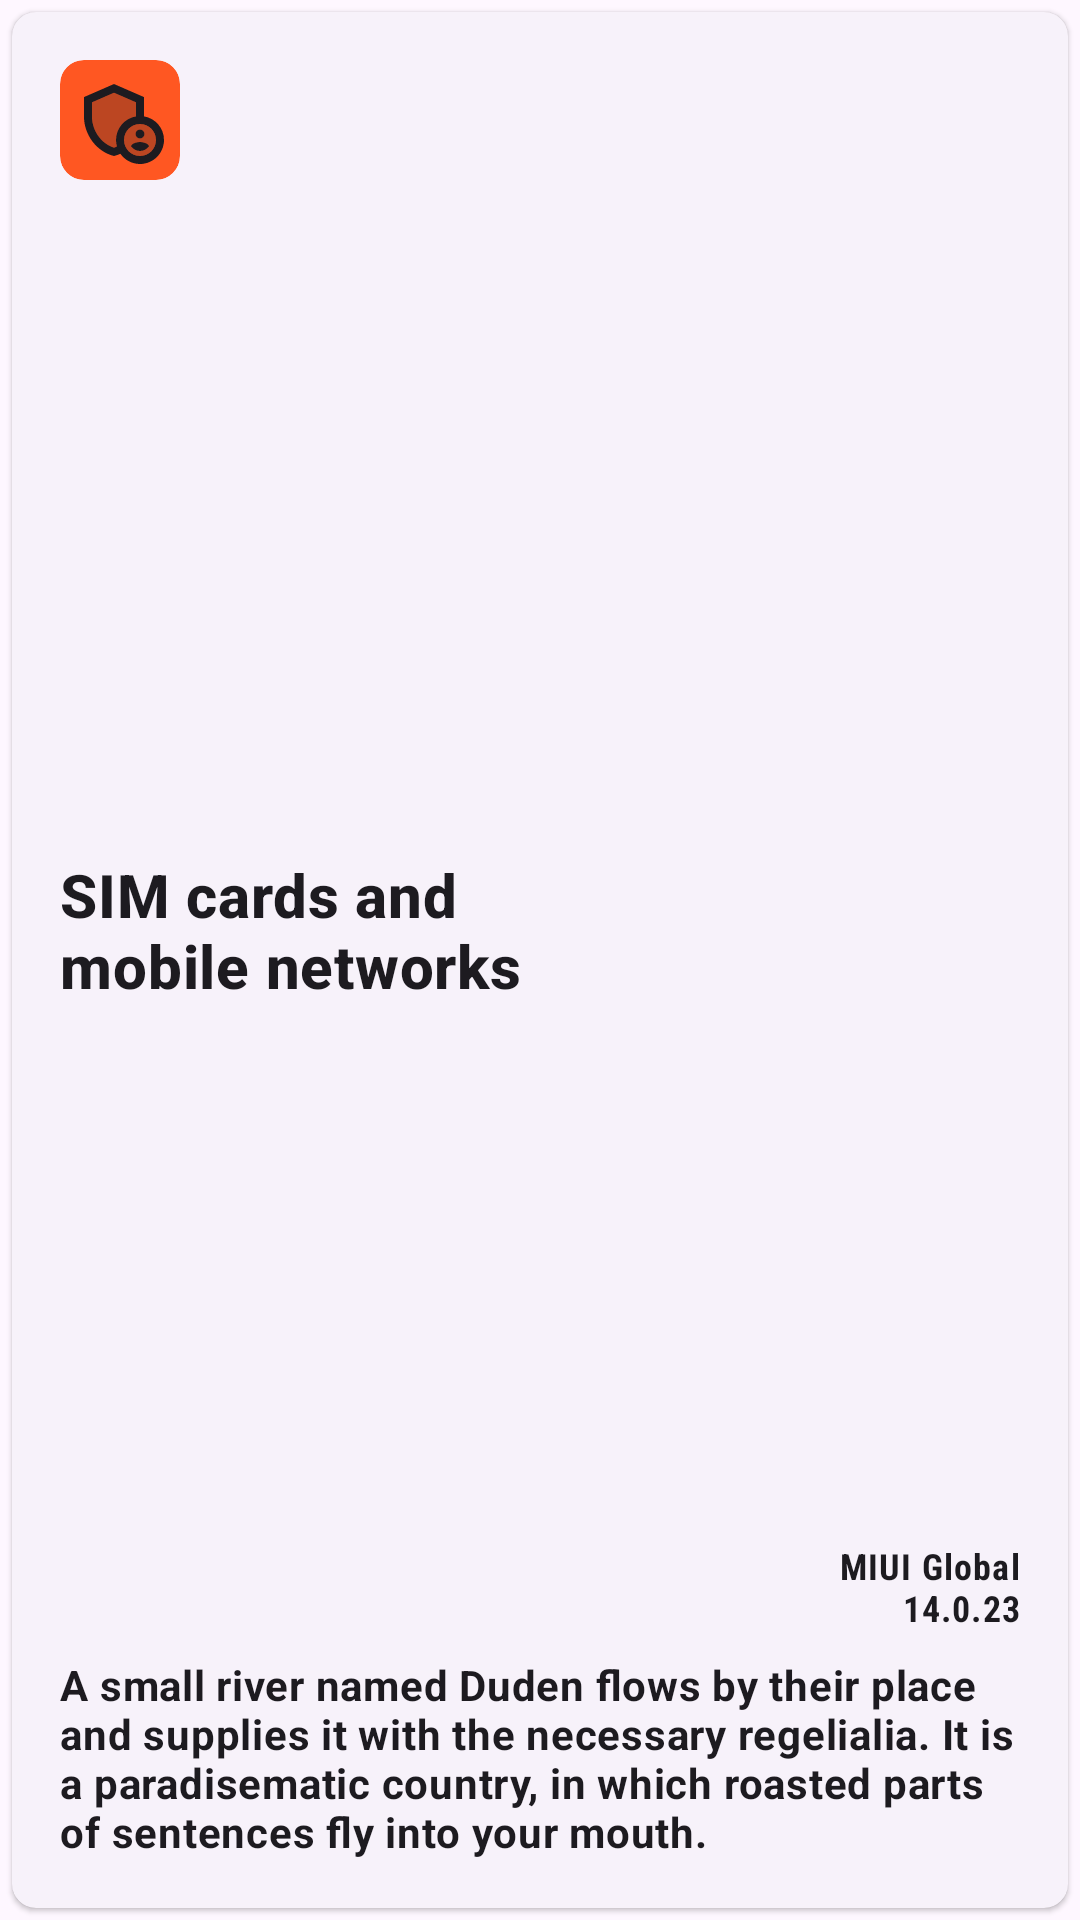

Where icons sit on this 1080*1920 app screen, as {"left": x1, "top": y1, "right": x2, "bottom": y2}:
admin panel settings: {"left": 84, "top": 84, "right": 164, "bottom": 164}
